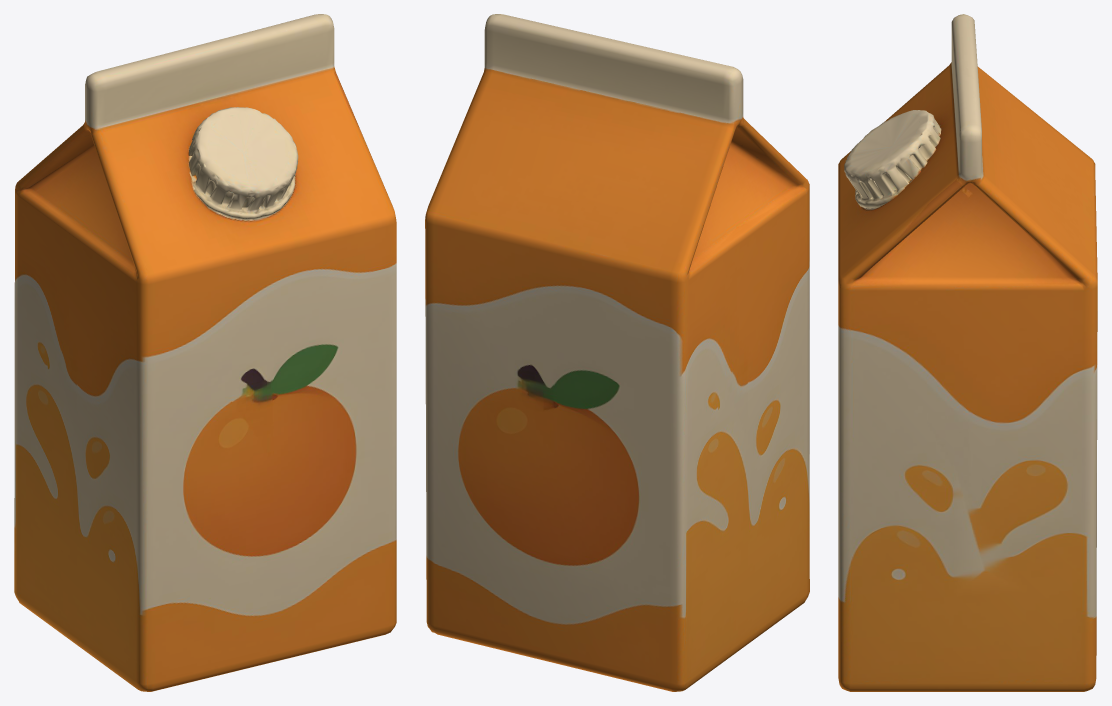
The model's file is orange-juice.glb.
The picture shows the model from 3 angles, left to right: view 1: azimuth 30°, elevation 25°; view 2: azimuth 150°, elevation 25°; view 3: azimuth 270°, elevation 25°; orthographic projection.
Parts seen in each view (by area): view 1: Orange Juice; view 2: Orange Juice; view 3: Orange Juice.
Part boxes in pixels (x1,y1,x2,y2): Orange Juice: (14, 14, 396, 691); Orange Juice: (425, 14, 809, 691); Orange Juice: (838, 14, 1097, 691).
Size of the model in its own units: 0.4707 by 0.998 by 0.416.
1 material, 1 textured.
